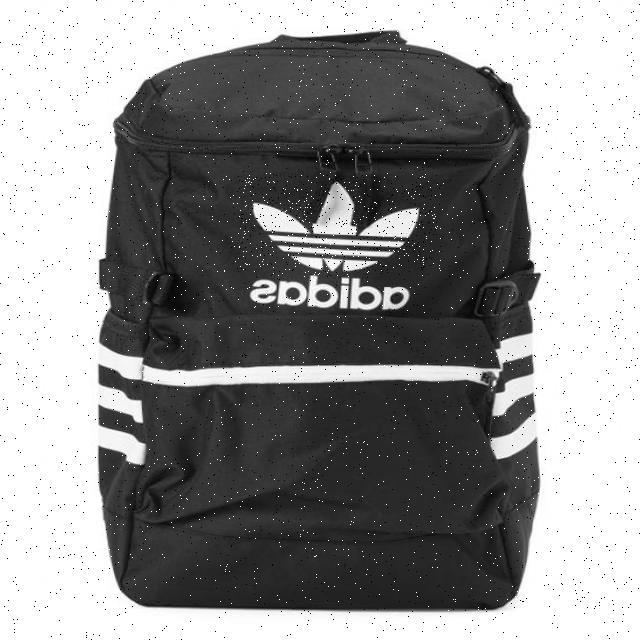Adidas: (237, 175, 441, 275)
